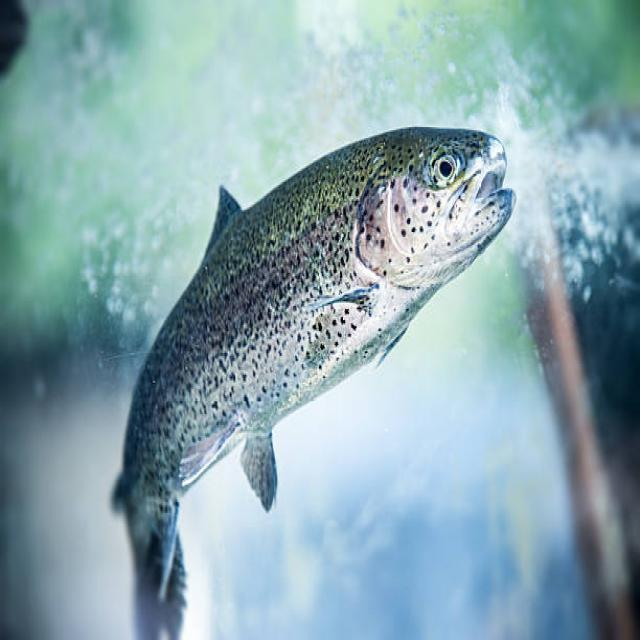salmon: (86, 111, 530, 634)
